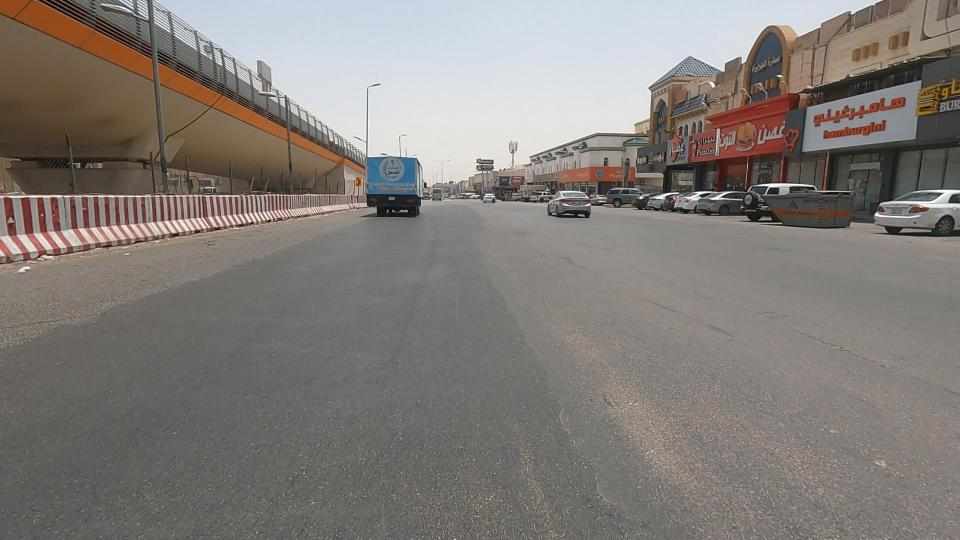CONSTRUCTION_ROAD: (0, 148, 165, 275), (92, 134, 252, 264), (179, 145, 381, 242)
GARBAGE: (5, 227, 81, 290), (0, 236, 52, 305)
